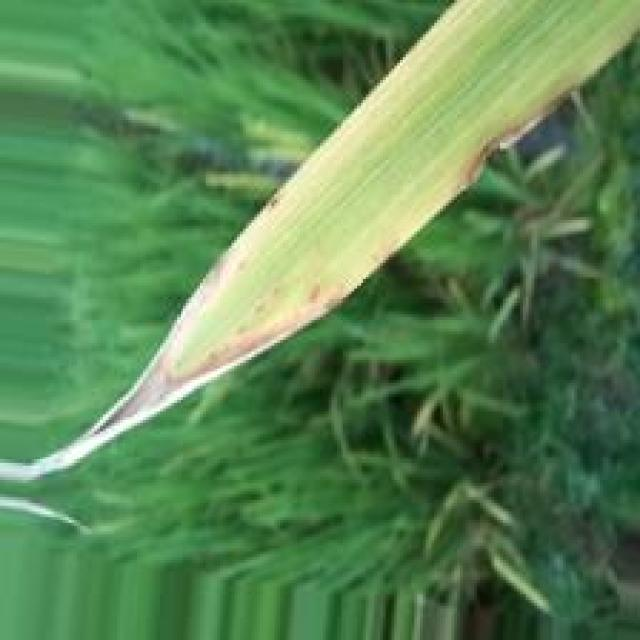Leaf_Scald: (90, 20, 455, 439)
